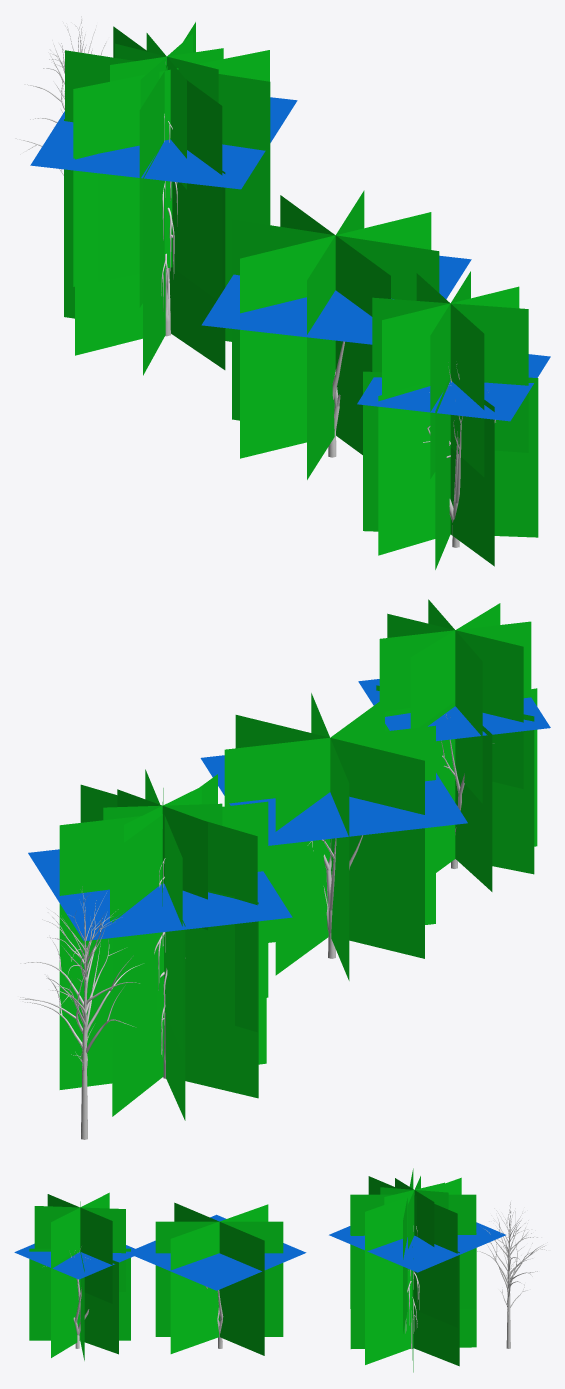
Rendered from trees.fbx.
3 renders of one model, top to bottom at view 1: azimuth 30°, elevation 25°; view 2: azimuth 150°, elevation 25°; view 3: azimuth 270°, elevation 25°, orthographic. The views are drawn at different scales.
Parts seen in each view (by area): view 1: tree.001, Plane.006, Plane.002; view 2: tree.001, Plane.002, Plane.006, tree.003; view 3: tree.001, Plane.002, Plane.006, tree.003.
Part boxes in pixels (x1,y1,x2,y2): tree.001: (30,22,297,375); Plane.006: (357,271,550,569); Plane.002: (201,190,471,479); tree.001: (28,769,292,1120); Plane.002: (200,693,467,980); Plane.006: (358,599,550,891); tree.003: (19,886,143,1139); tree.001: (329,1168,505,1372); Plane.002: (127,1202,306,1355); Plane.006: (14,1192,135,1360); tree.003: (477,1202,548,1348).
Bounding box in the file's own units: 745 × 724 × 2218.
